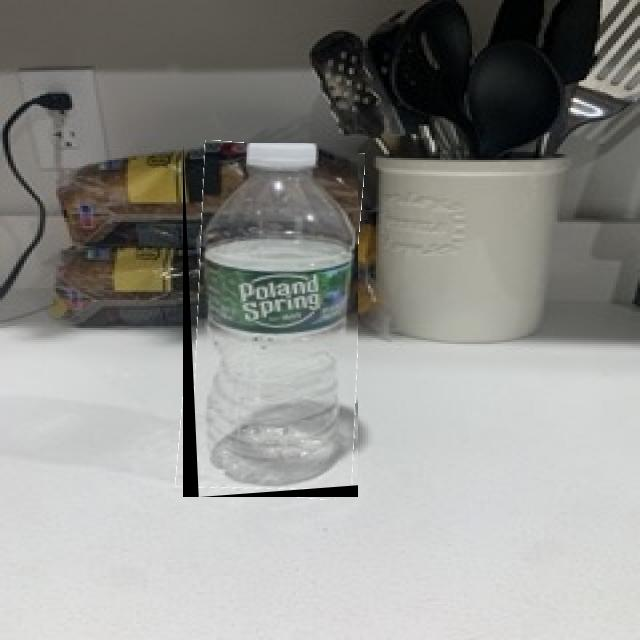water_bottle: (183, 143, 358, 497)
